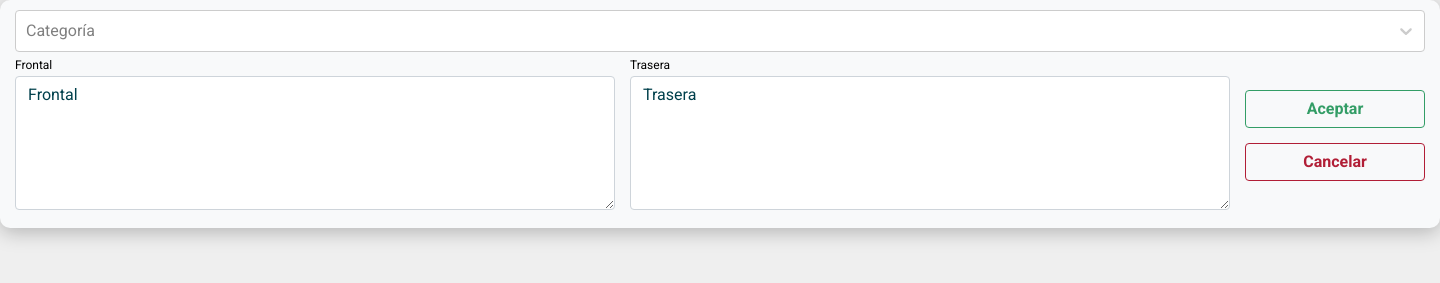
Test case: TarjetasForm create tests › should show validation error message when submit form whithout select categoria
Step 1. Click the button "Aceptar" → (1335, 108), box [1245,90,1425,128]
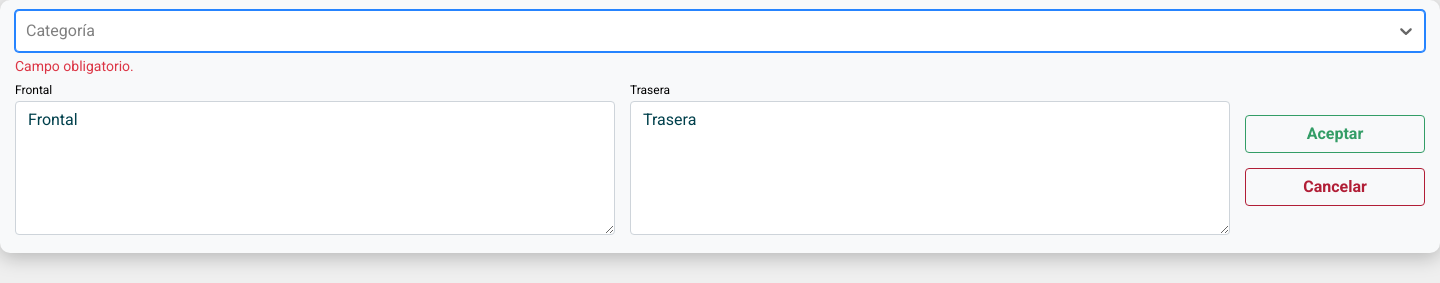
Now the text "Campo obligatorio." is shown once, box [15,58,134,74]
